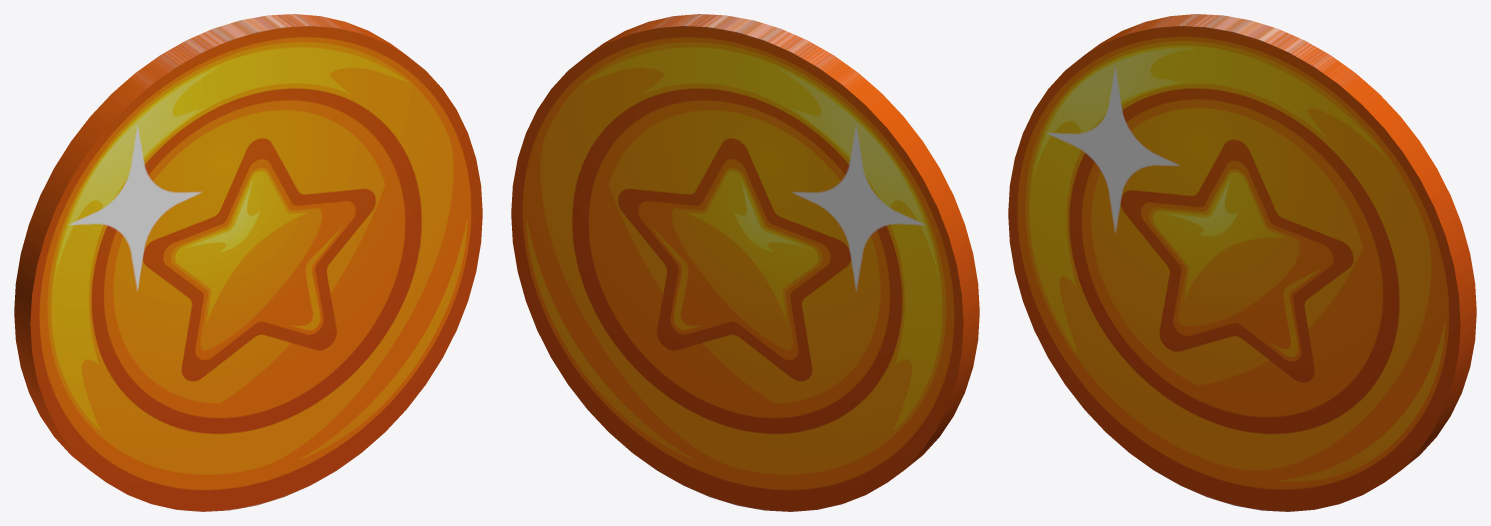
The model's file is Coin.fbx.
The picture shows the model from 3 angles, left to right: view 1: azimuth 30°, elevation 25°; view 2: azimuth 150°, elevation 25°; view 3: azimuth 330°, elevation 25°; orthographic projection.
Parts seen in each view (by area): view 1: Cylinder001; view 2: Cylinder001; view 3: Cylinder001.
Boxes of the visible parts, x1,y1,x2,y2 form: Cylinder001: (14,14,482,511); Cylinder001: (511,14,979,511); Cylinder001: (1008,14,1476,511).
Bounding box in the file's own units: 1.9 × 1.9 × 0.118.
1 material, 1 textured.
